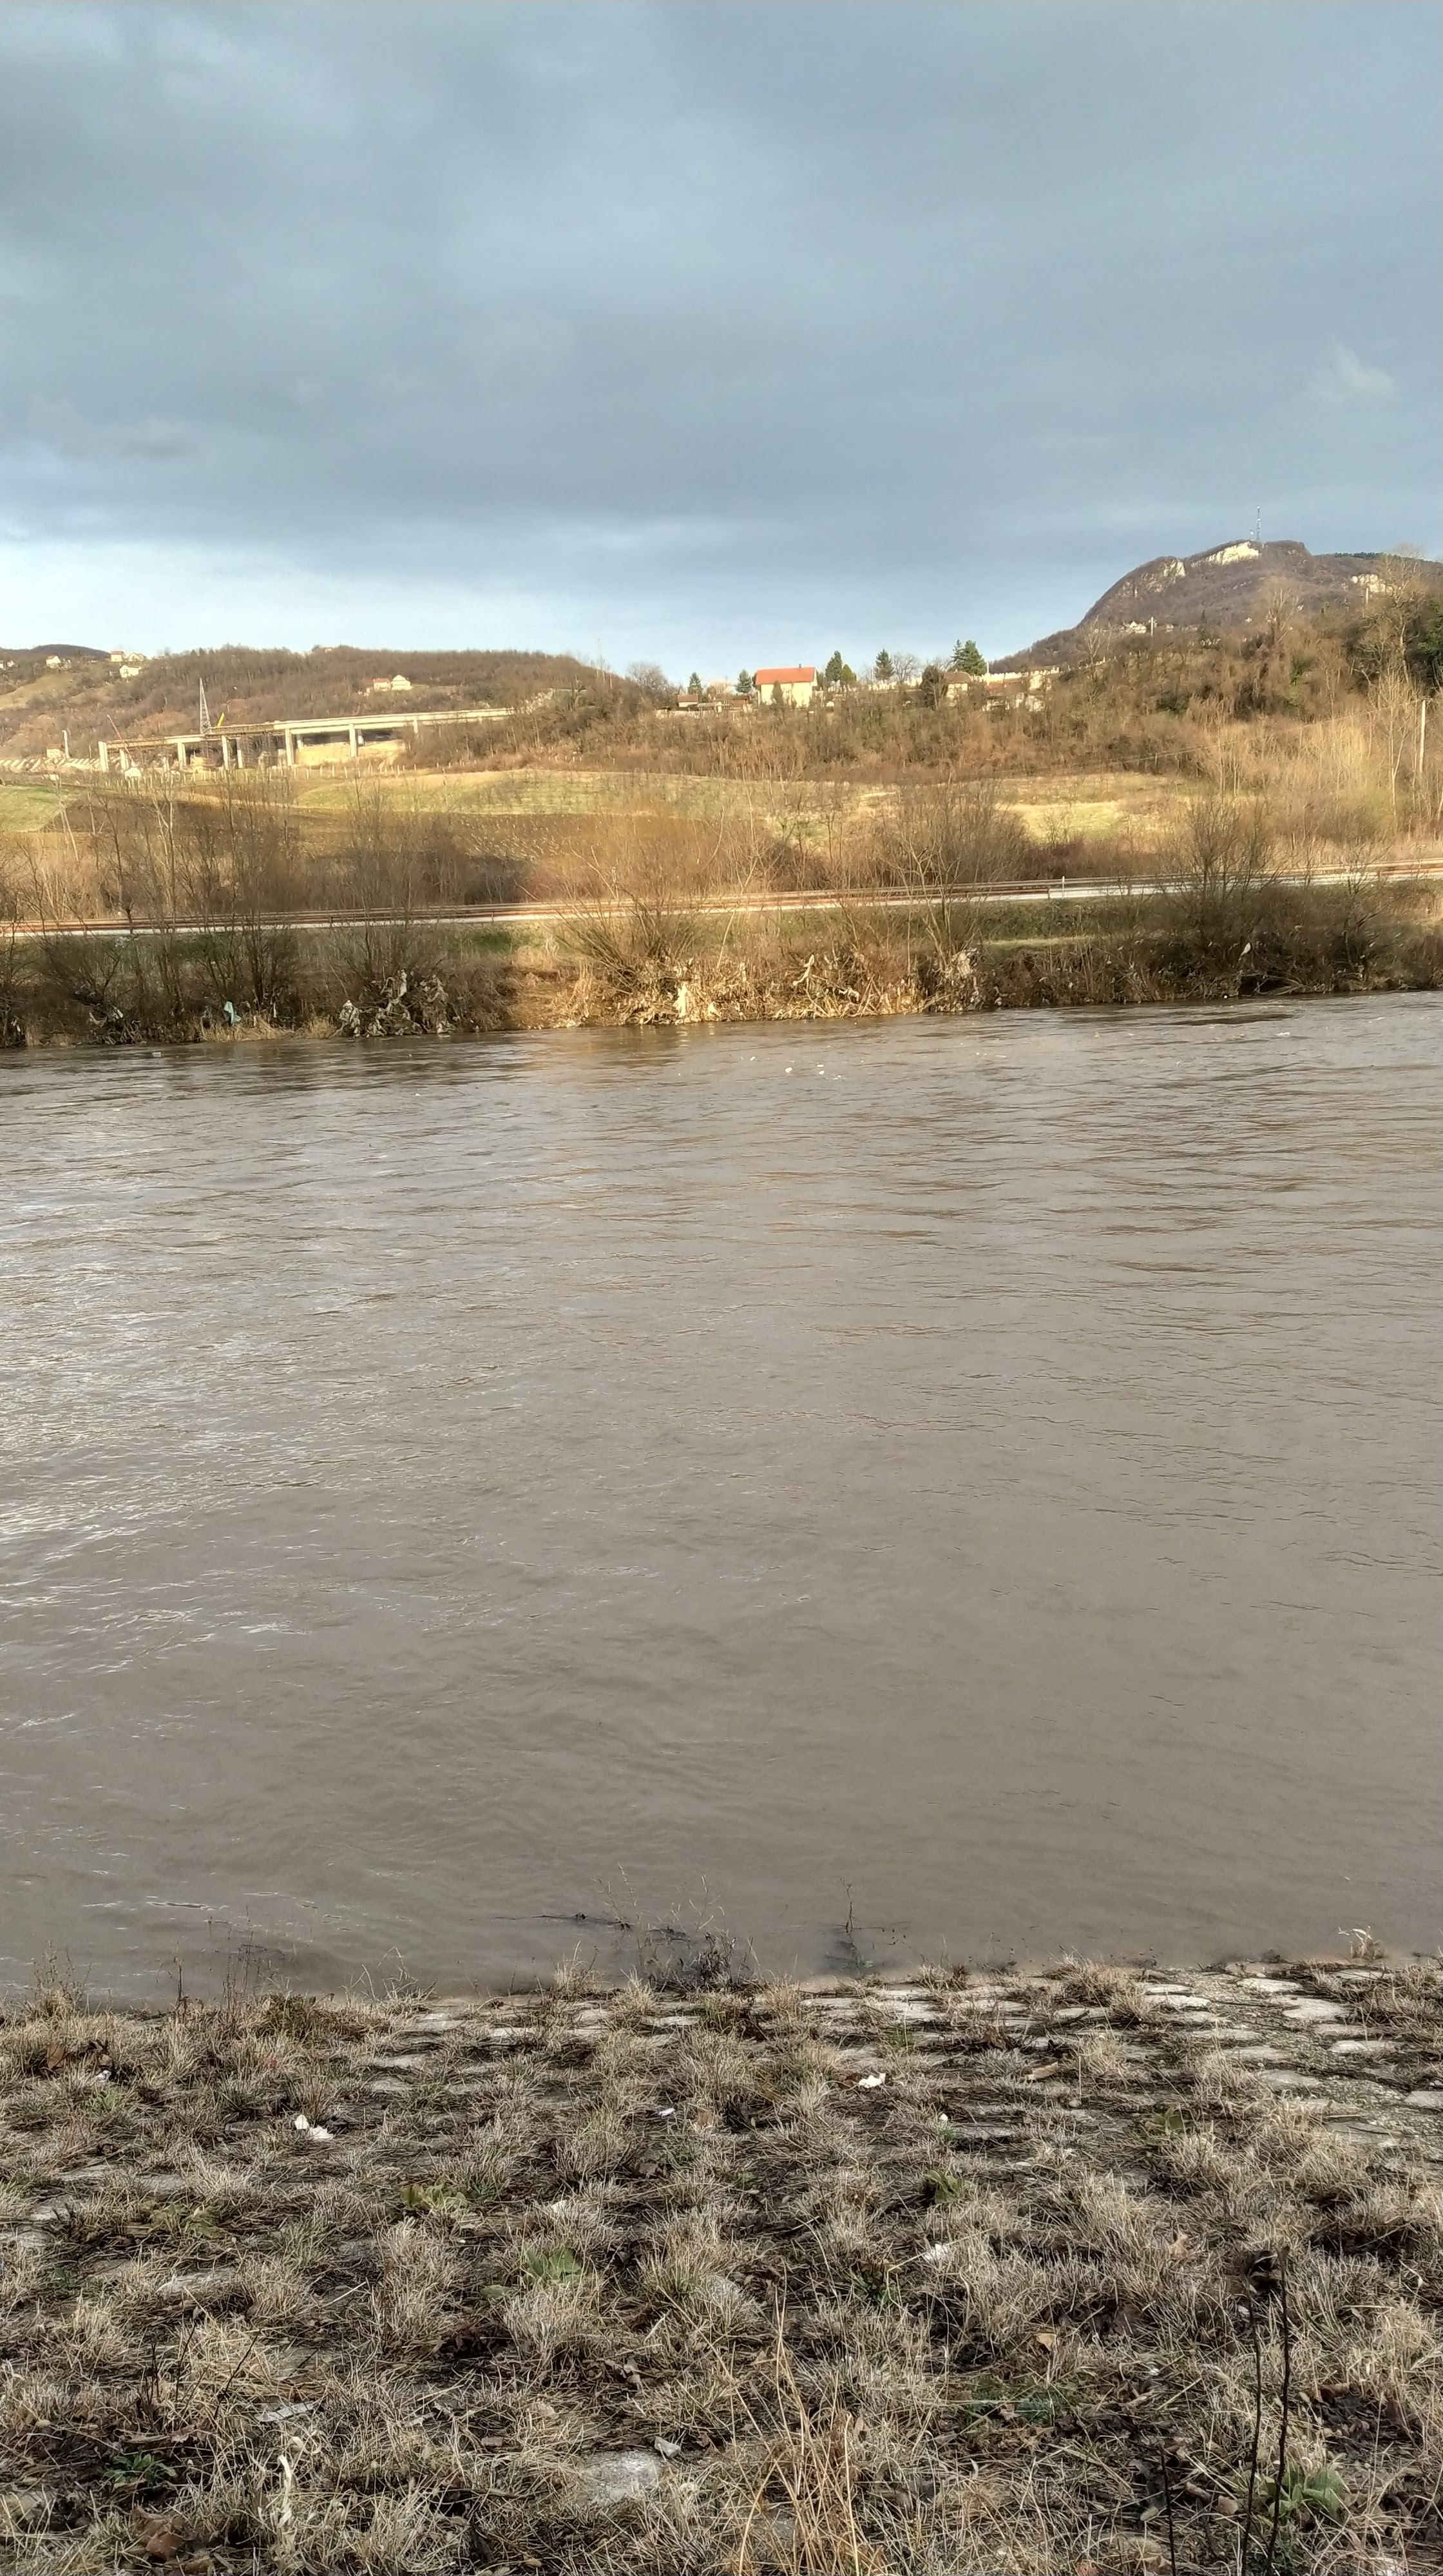Plastic Bottle: (784, 1067, 791, 1072), (995, 1054, 1006, 1058), (749, 1056, 754, 1062), (152, 1051, 159, 1054), (816, 1063, 823, 1067), (820, 1070, 823, 1074)
